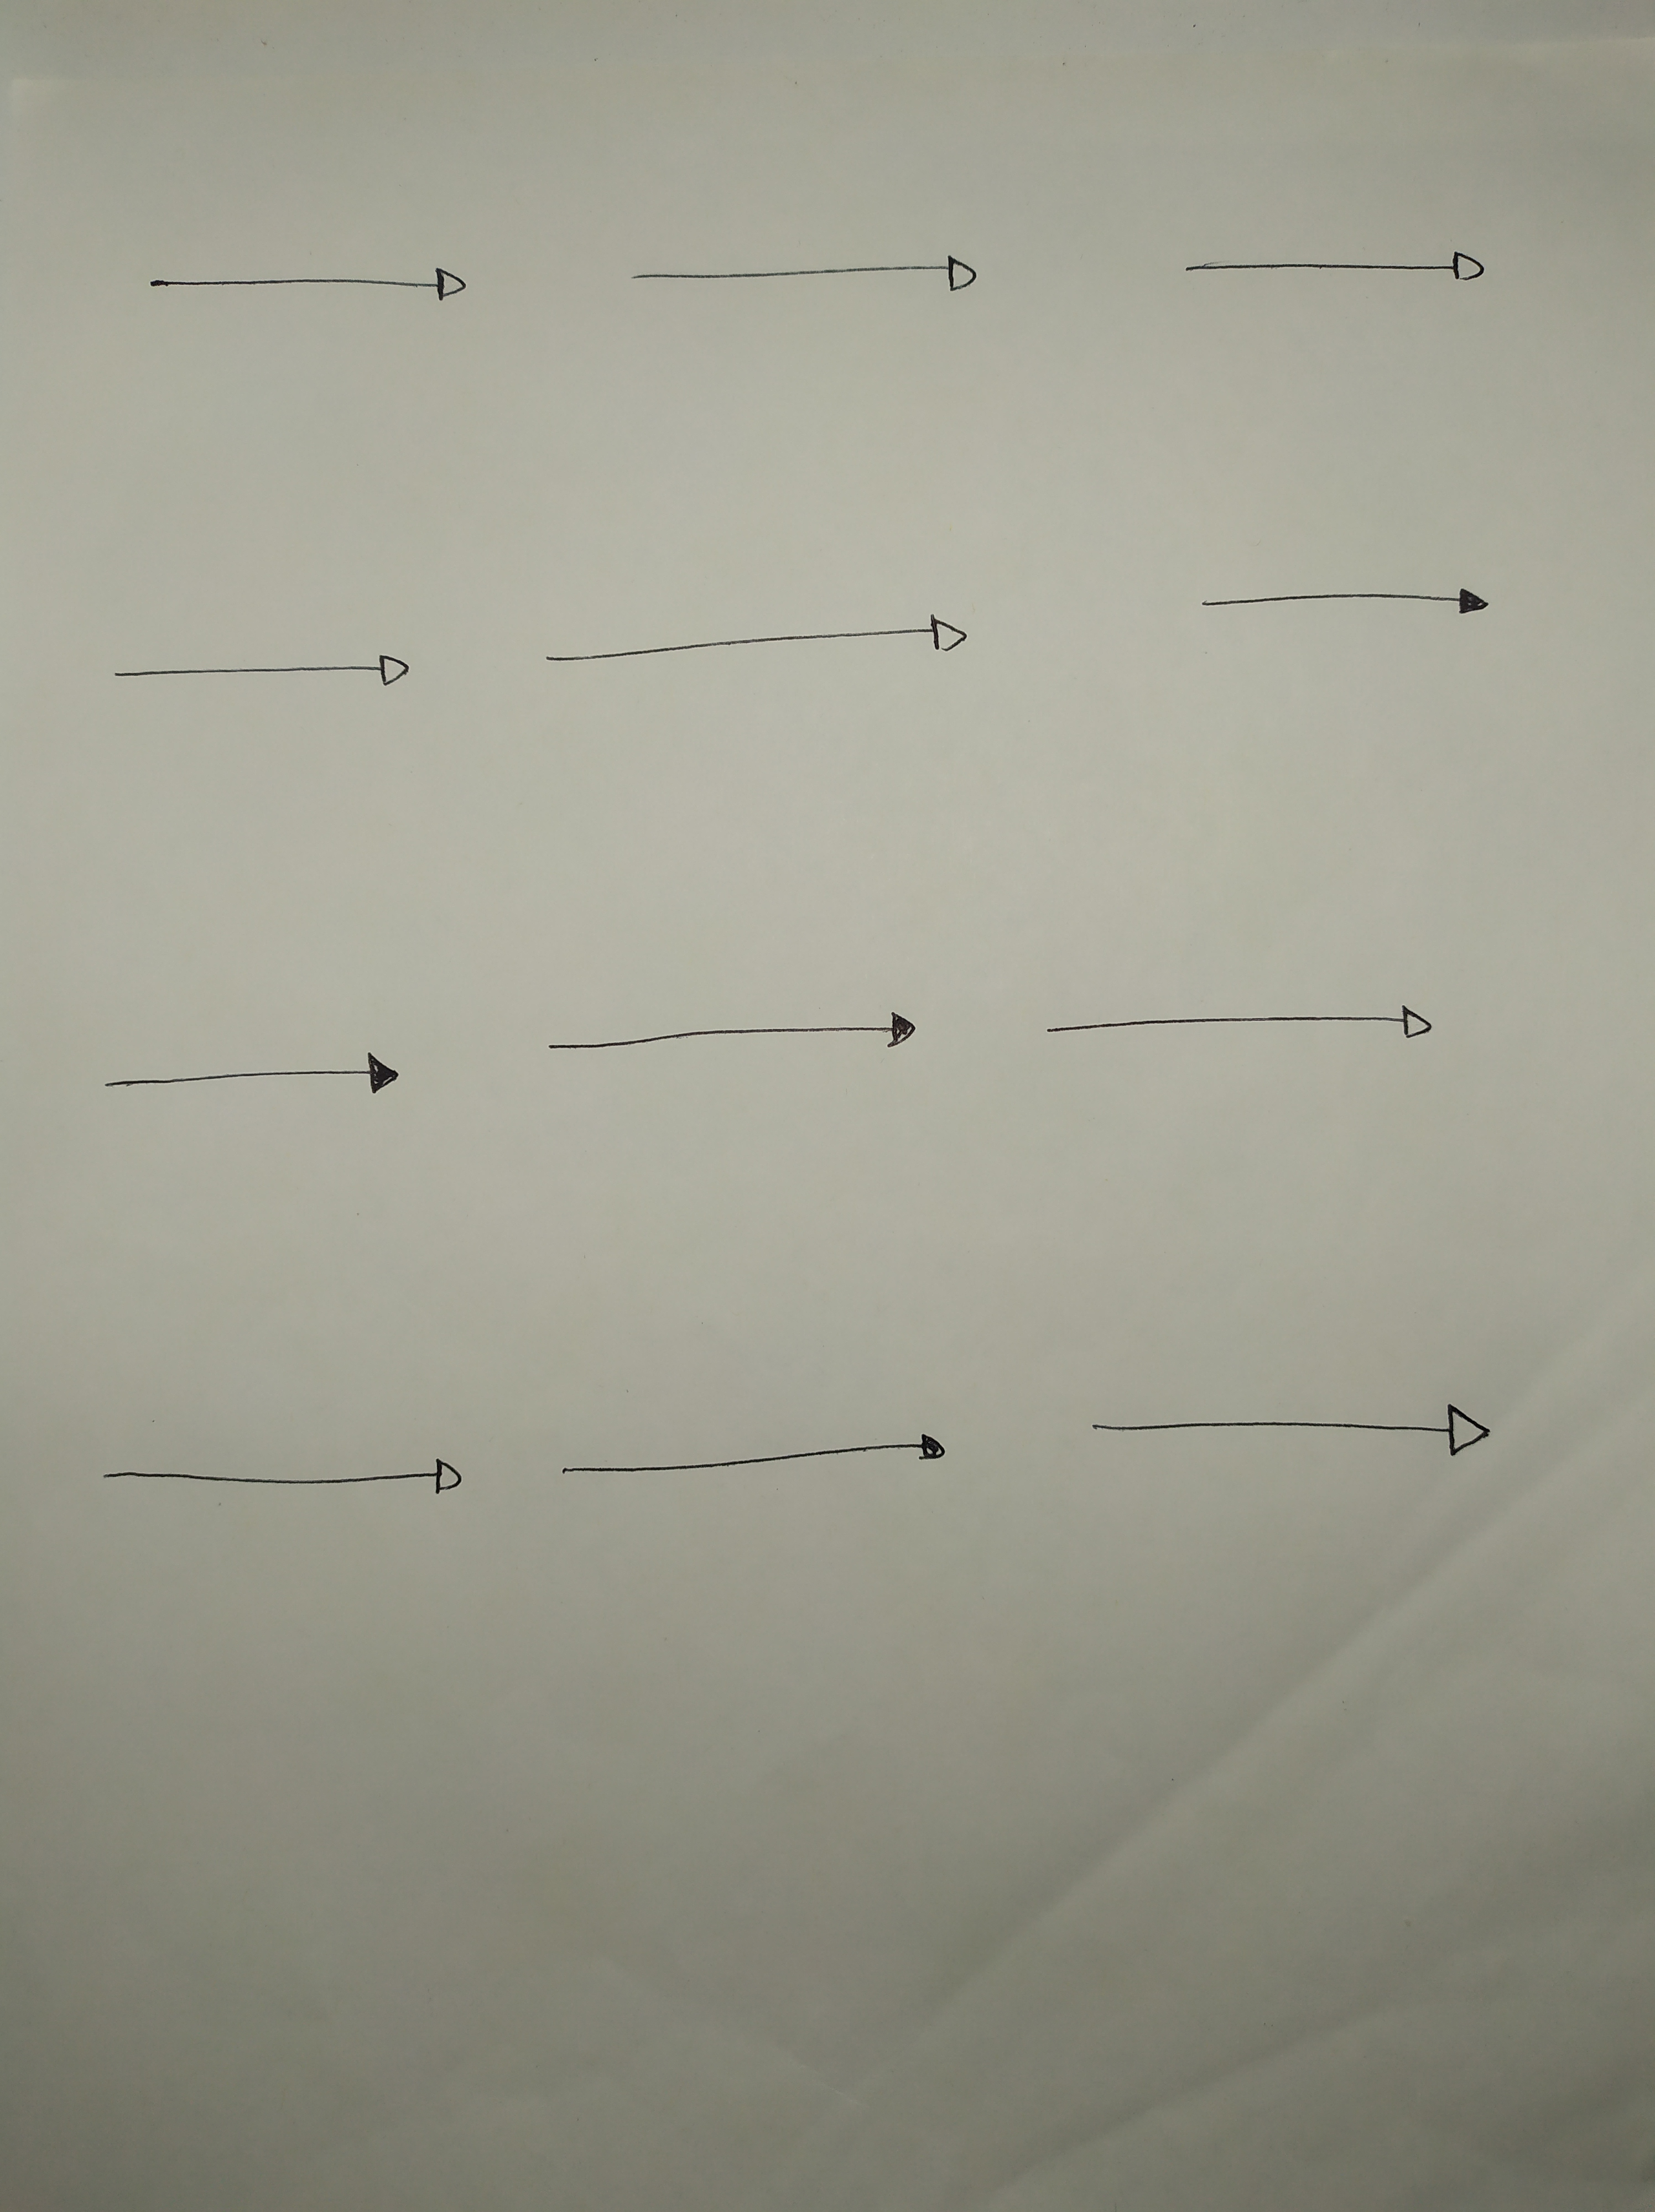arrow_line_right: (506, 596, 1029, 714), (506, 978, 965, 1096), (1071, 1378, 1528, 1491), (103, 240, 522, 341), (1161, 553, 1565, 646), (1022, 985, 1467, 1062), (80, 1428, 487, 1512), (534, 1423, 989, 1496), (589, 228, 1014, 306), (1147, 226, 1532, 309), (76, 629, 450, 702), (83, 1039, 435, 1112)
